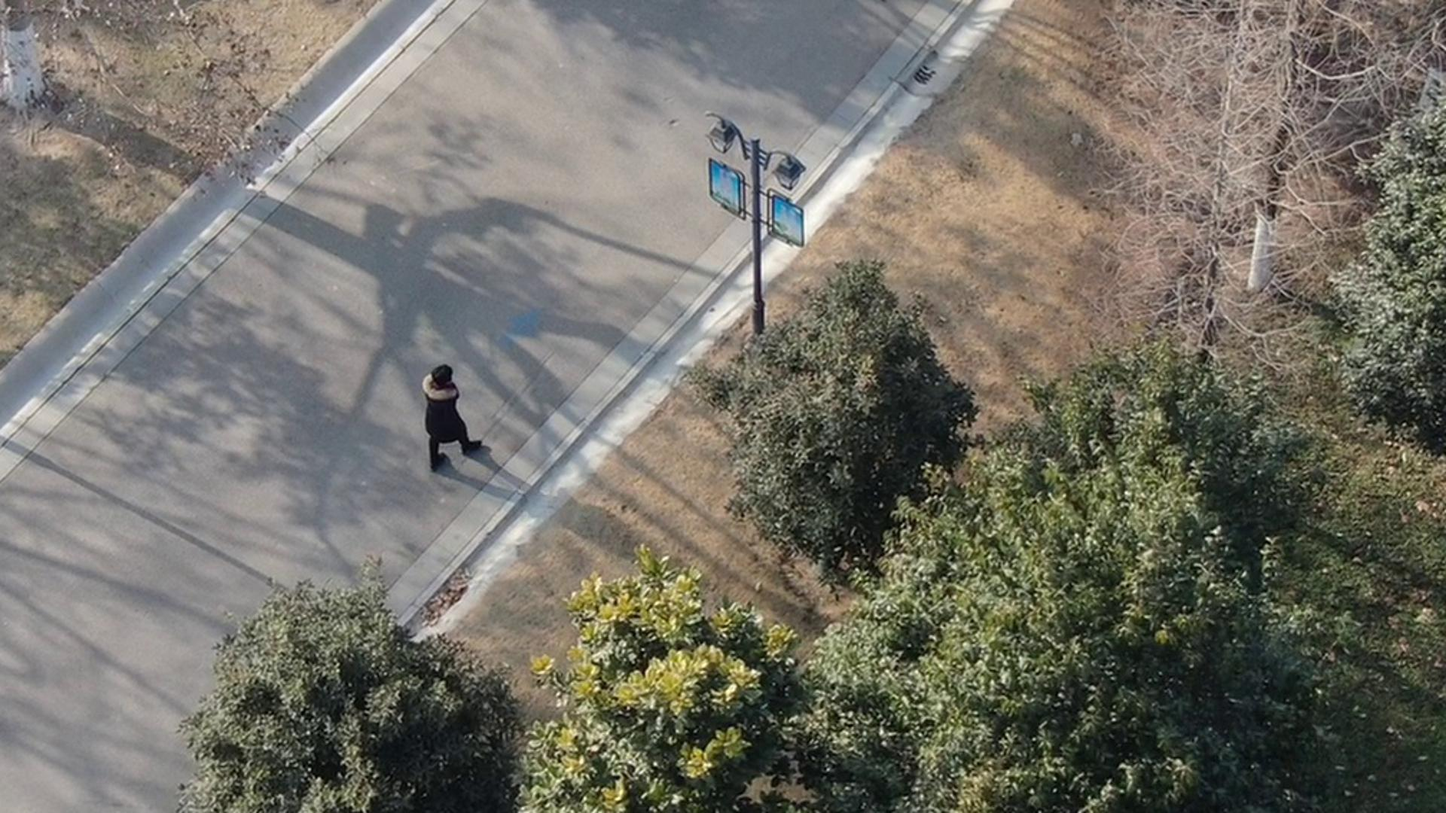human: (419, 330, 466, 446)
